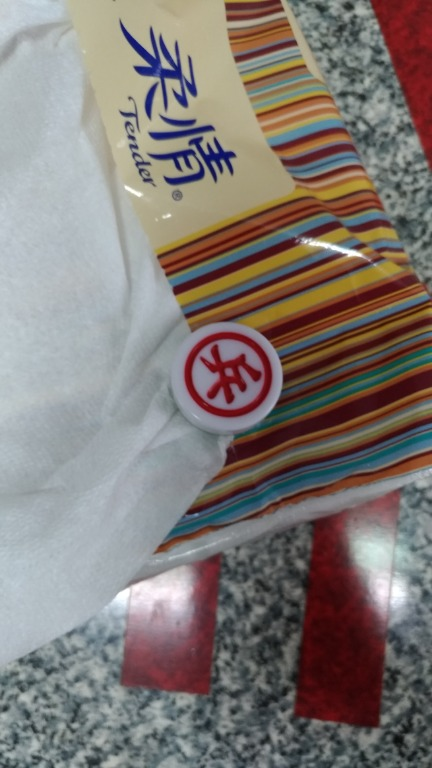r-pawn: (171, 322, 293, 436)
